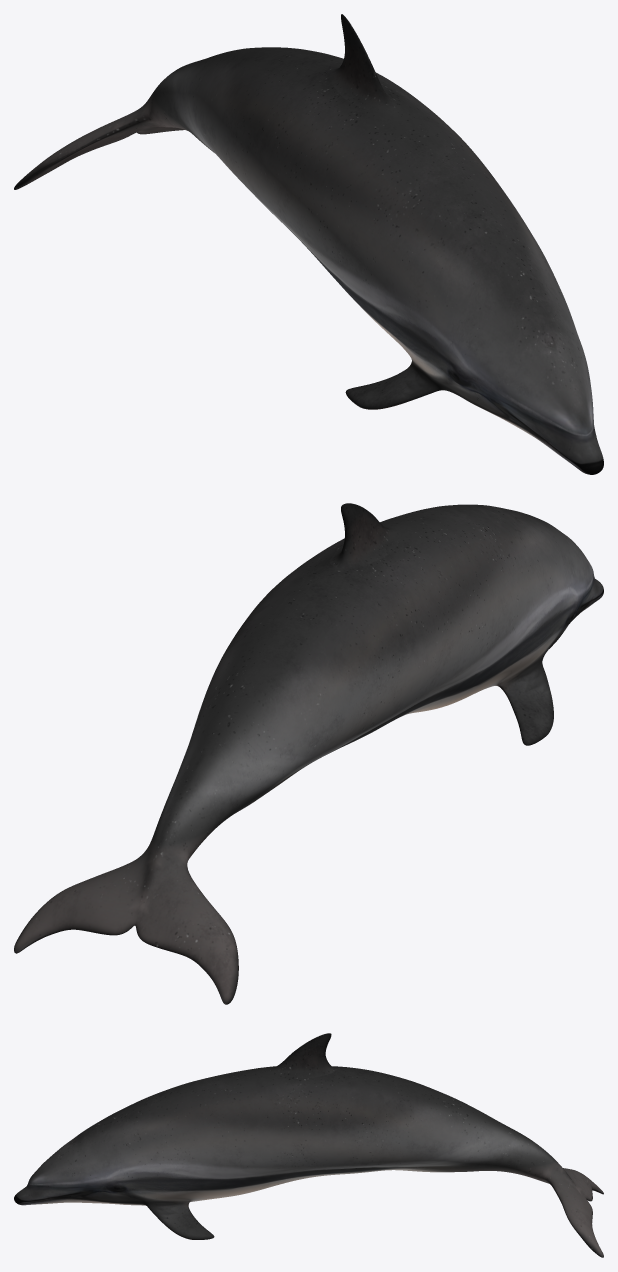
Rendered from frasers_dolphin.glb.
3 renders of one model, top to bottom at view 1: azimuth 30°, elevation 25°; view 2: azimuth 150°, elevation 25°; view 3: azimuth 270°, elevation 25°, orthographic. The views are drawn at different scales.
Parts seen in each view (by area): view 1: polySurface1; view 2: polySurface1; view 3: polySurface1.
Part boxes in pixels (x1,y1,x2,y2): polySurface1: [14, 14, 603, 474]; polySurface1: [14, 503, 603, 1004]; polySurface1: [14, 1033, 603, 1257].
Bounding box in the file's own units: 0.392 × 0.5355 × 1.49.
Materials: 1 (1 with a texture image).
